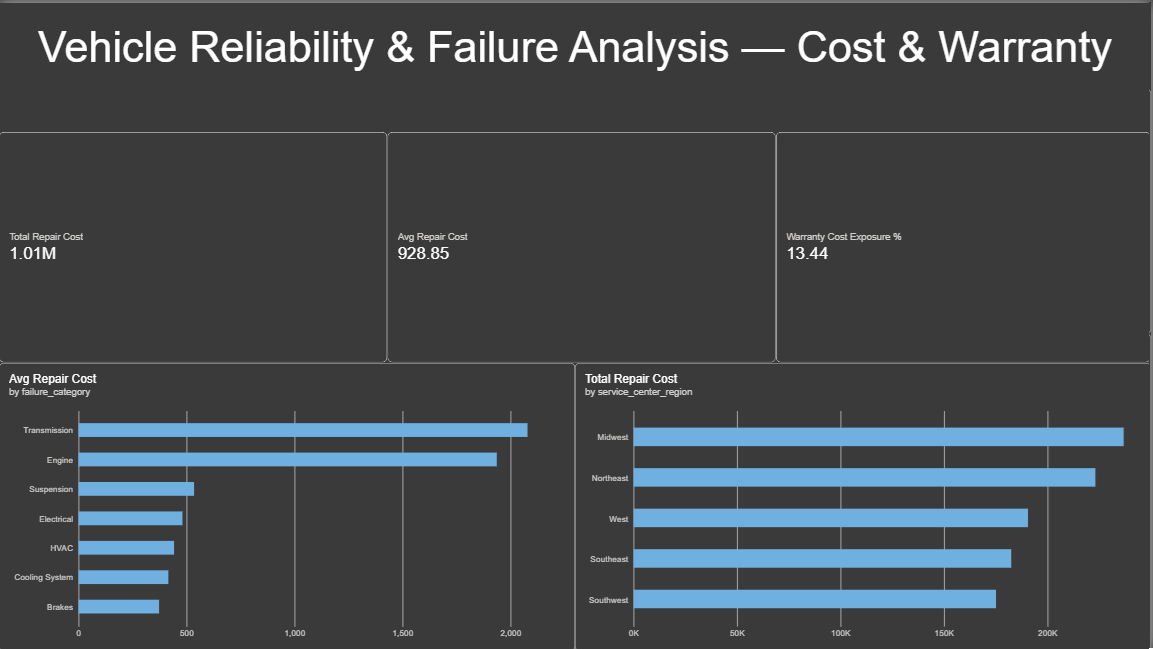

Layout of this report page (visuals, bound fields, positions):
{"tool":"powerbi","page":{"name":"Cost & Warranty","canvas":[1920,1080],"ordinal":2},"visuals":[{"type":"textbox","box":[0,0,1920,144],"z":0},{"type":"cardVisual","fields":{"Data":["fact_table_enriched.Total Repair Cost"]},"box":[0,216,648,384],"z":1000},{"type":"cardVisual","fields":{"Data":["fact_table_enriched.Avg Repair Cost"]},"box":[648,216,648,384],"z":2000},{"type":"cardVisual","fields":{"Data":["fact_table_enriched.Warranty Cost Exposure %"]},"box":[1296,216,624,384],"z":3000},{"type":"clusteredBarChart","fields":{"Category":["fact_table_enriched.failure_category"],"Y":["fact_table_enriched.Avg Repair Cost"]},"box":[0,600,960,480],"z":4000},{"type":"clusteredBarChart","fields":{"Category":["fact_table_enriched.service_center_region"],"Y":["fact_table_enriched.Total Repair Cost"]},"box":[960,600,960,480],"z":5000}]}

Visuals, with their boxes in screenshot pixels (x1, y1, x2, y2), scaled from the page's 1920x1080 canvas onto the 1153x649 screenshot:
textbox: 0/0/1152/87
cardVisual - fact_table_enriched.Total Repair Cost: 0/130/389/361
cardVisual - fact_table_enriched.Avg Repair Cost: 389/130/778/361
cardVisual - fact_table_enriched.Warranty Cost Exposure %: 778/130/1152/361
clusteredBarChart - fact_table_enriched.failure_category x fact_table_enriched.Avg Repair Cost: 0/361/576/648
clusteredBarChart - fact_table_enriched.service_center_region x fact_table_enriched.Total Repair Cost: 576/361/1152/648
